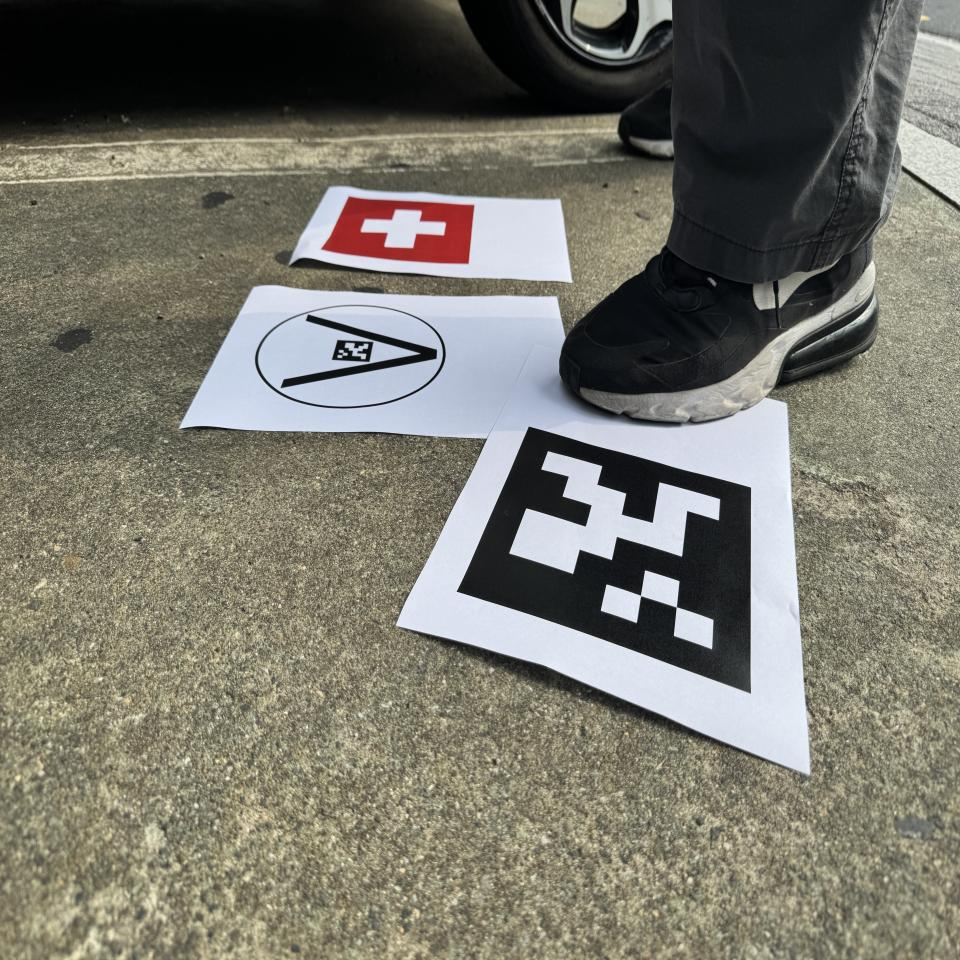ArUro mark: (440, 406, 763, 709)
rescue point: (315, 188, 485, 274)
vertiport: (252, 294, 460, 416)
